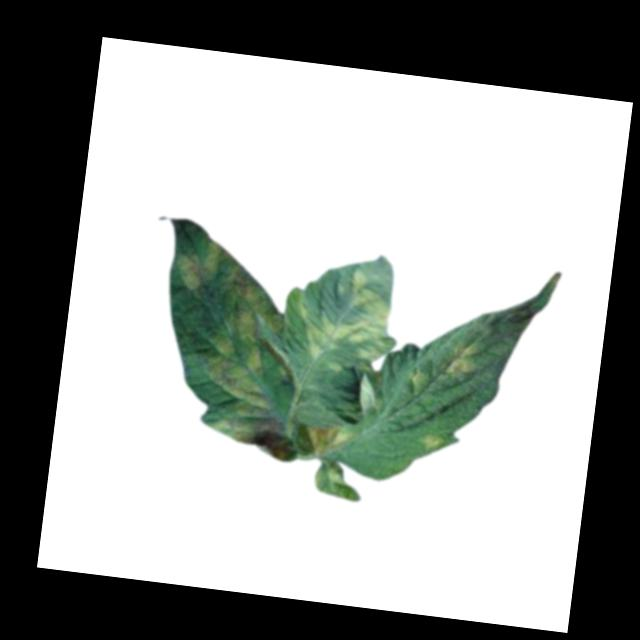Leaf_Mold: (158, 238, 314, 462), (301, 268, 395, 377), (437, 337, 482, 377), (305, 421, 352, 458), (418, 428, 443, 449)
